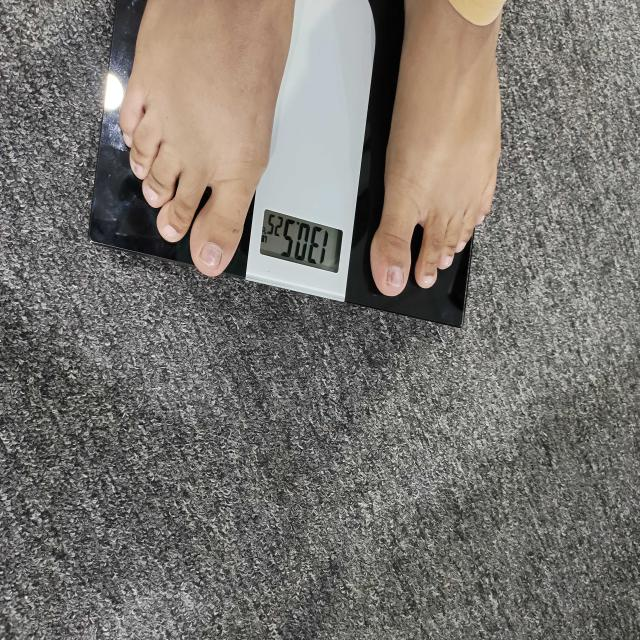ws: (248, 0, 369, 299)
